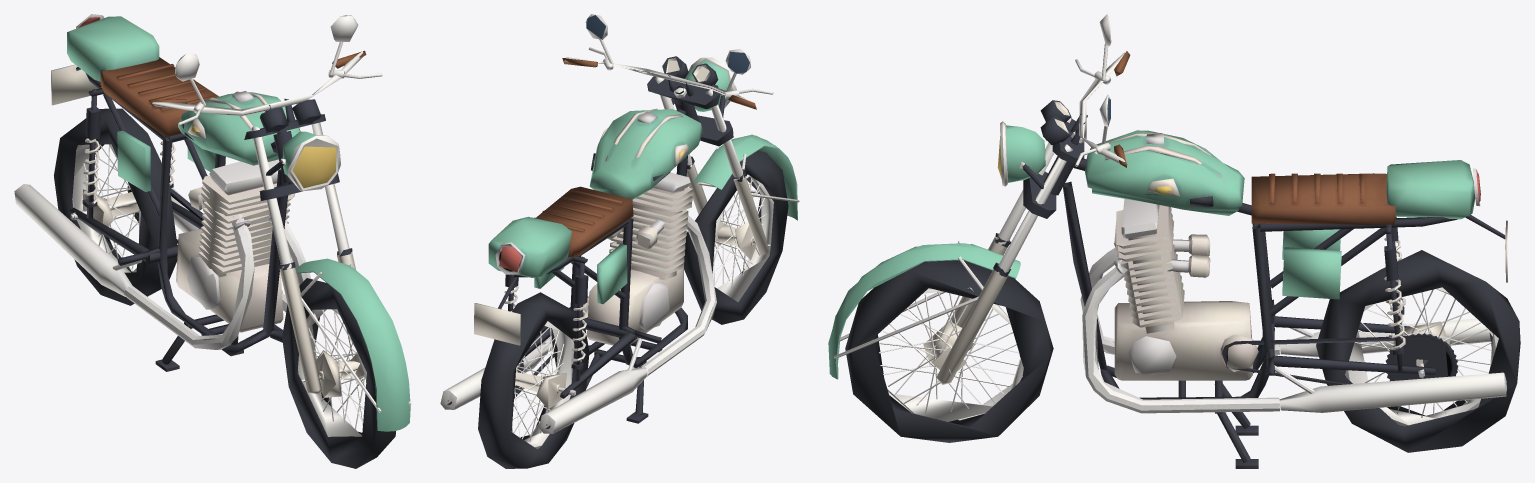
Rendered from n_moto.glb.
3 renders of one model, left to right at view 1: azimuth 30°, elevation 25°; view 2: azimuth 150°, elevation 25°; view 3: azimuth 270°, elevation 25°, orthographic. The views are drawn at different scales.
Parts seen in each view (by area): view 1: motorcycle_body, motorcycle_steering, motorcycle_wheel_front, motorcycle_wheel_rear; view 2: motorcycle_body, motorcycle_wheel_rear, motorcycle_steering, motorcycle_wheel_front; view 3: motorcycle_body, motorcycle_wheel_front, motorcycle_wheel_rear, motorcycle_steering.
Boxes of the visible parts, <box> form: motorcycle_body: <box>14,14,319,371</box>; motorcycle_steering: <box>150,15,411,431</box>; motorcycle_wheel_front: <box>282,278,395,468</box>; motorcycle_wheel_rear: <box>54,108,177,305</box>; motorcycle_body: <box>440,99,716,433</box>; motorcycle_wheel_rear: <box>478,292,589,468</box>; motorcycle_steering: <box>562,14,799,255</box>; motorcycle_wheel_front: <box>683,150,788,324</box>; motorcycle_body: <box>1043,130,1507,468</box>; motorcycle_wheel_front: <box>845,260,1053,442</box>; motorcycle_wheel_rear: <box>1316,250,1520,452</box>; motorcycle_steering: <box>828,14,1130,384</box>.
Bounding box in the file's own units: 0.786 × 1.31 × 2.08.
Materials: 2 (1 with a texture image).
